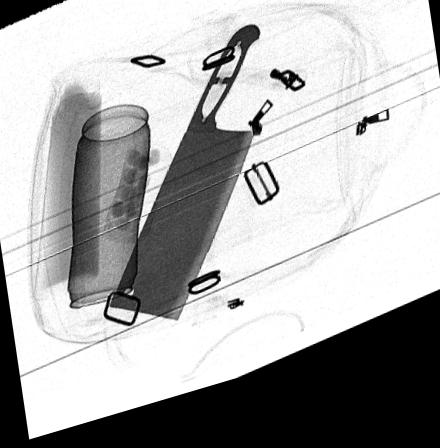Knife: (108, 37, 261, 332)
